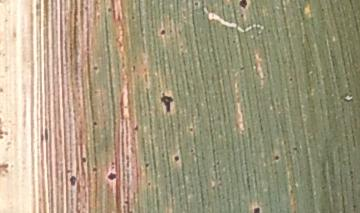tarspot: (156, 88, 179, 117), (234, 1, 255, 13), (104, 171, 120, 184), (67, 173, 79, 188), (168, 152, 183, 164), (78, 153, 91, 166), (128, 122, 142, 134), (140, 160, 153, 172), (157, 27, 170, 39), (184, 123, 196, 135), (88, 118, 101, 129), (103, 5, 115, 16), (189, 1, 205, 9), (89, 63, 100, 73), (290, 143, 300, 154), (284, 74, 296, 83), (250, 205, 263, 213), (270, 152, 280, 162), (89, 165, 100, 174), (128, 13, 139, 22)
